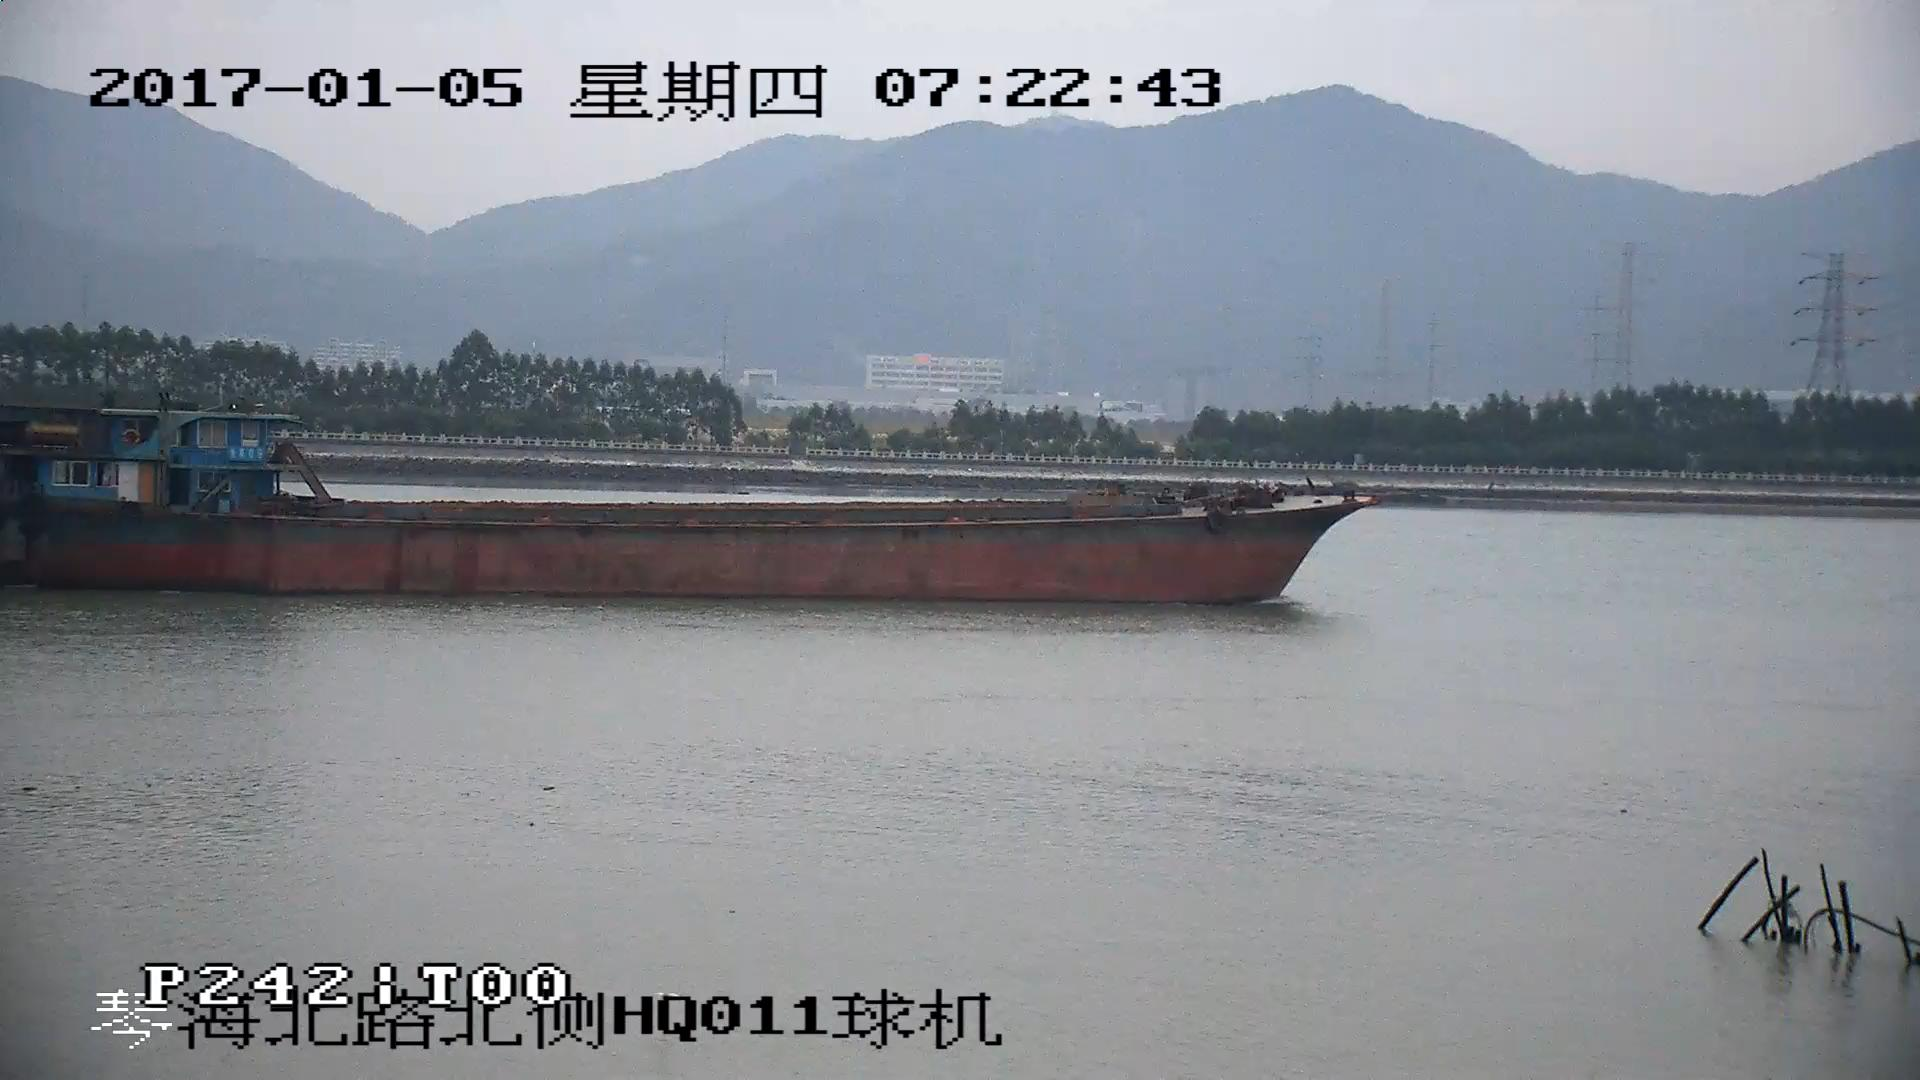bulk cargo carrier: (1, 409, 1378, 602)
